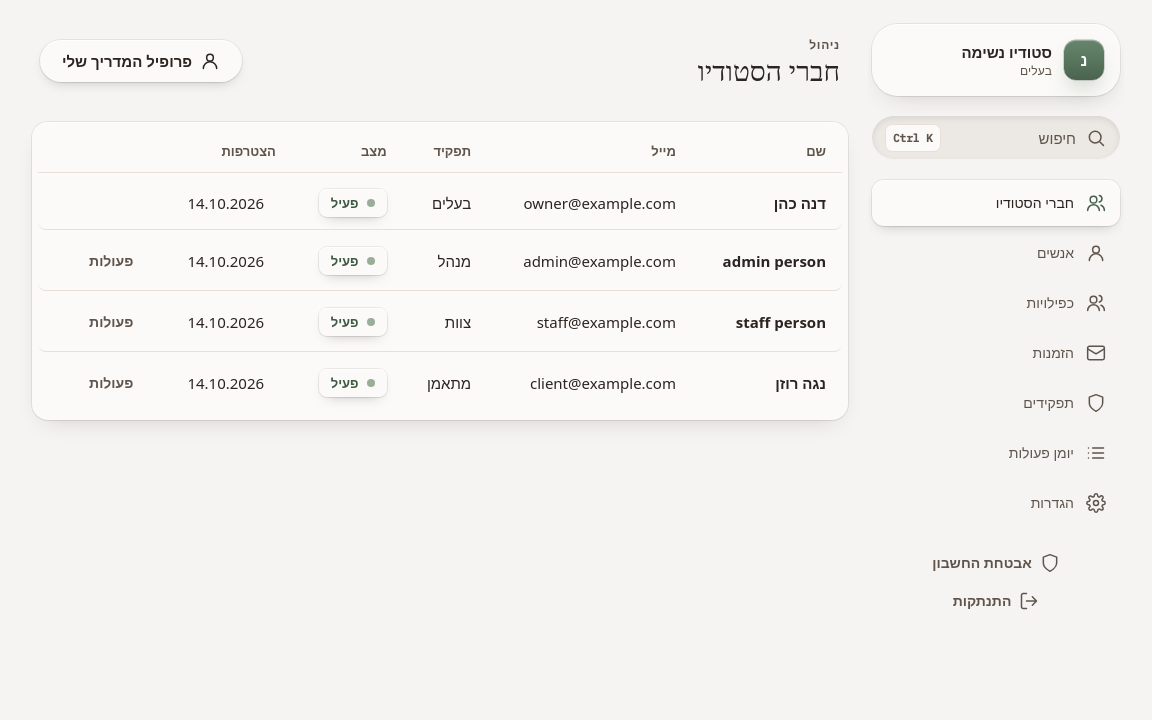
member actions › explains a stale row instead of overwriting someone else's change
Click the button "פעולות" in the row of "נגה רוזן".
click(111, 383)  # box [67, 366, 155, 400]
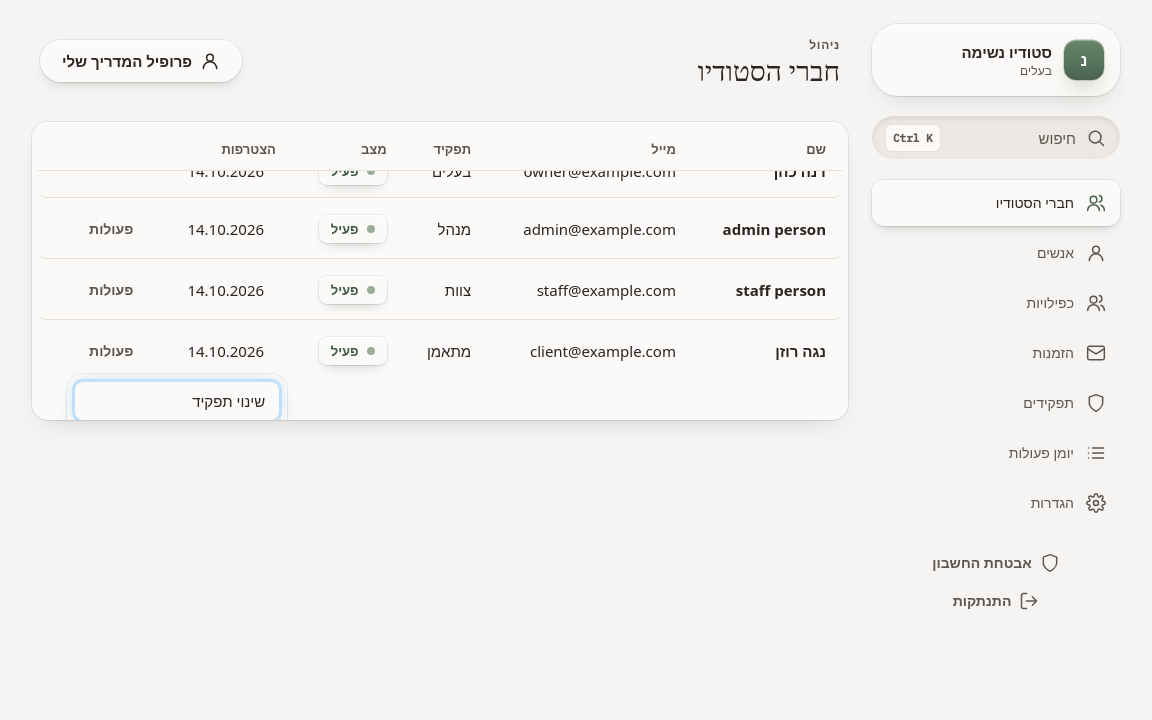
Click the menu item "שינוי תפקיד".
click(177, 401)  # box [75, 382, 279, 420]
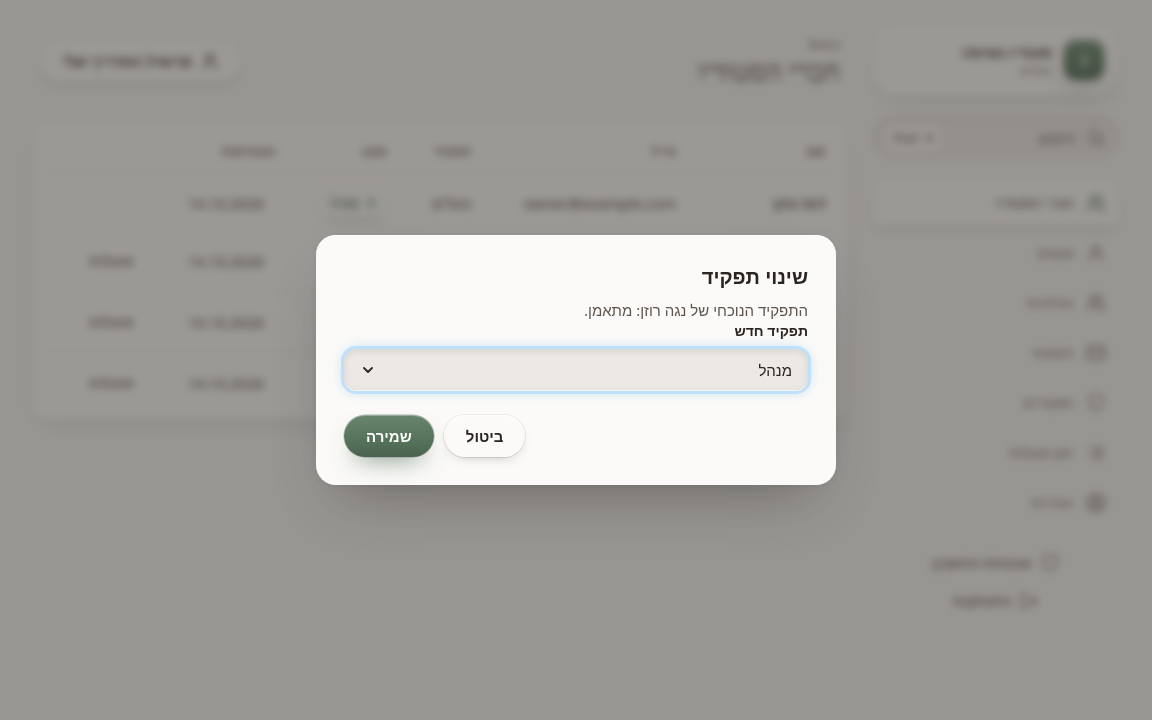
Click the button "שמירה".
click(389, 436)  # box [344, 415, 434, 457]
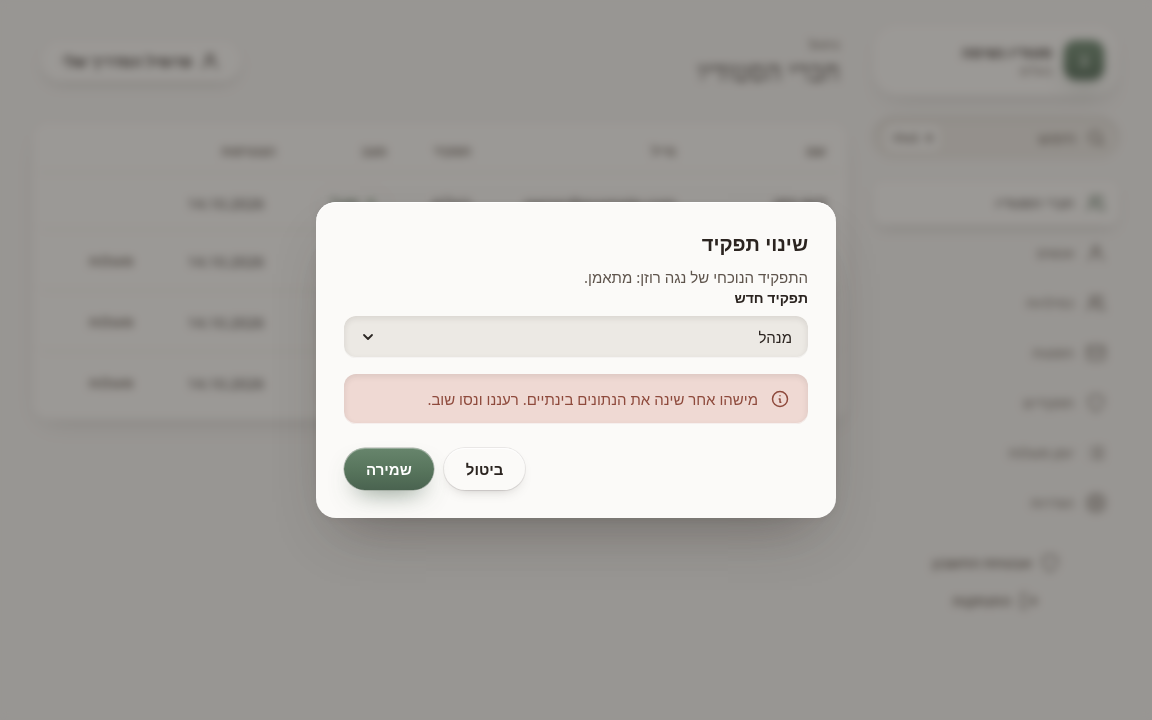
Expected: the message shows "מישהו אחר שינה את הנתונים בינתיים", [427, 389, 758, 409]
